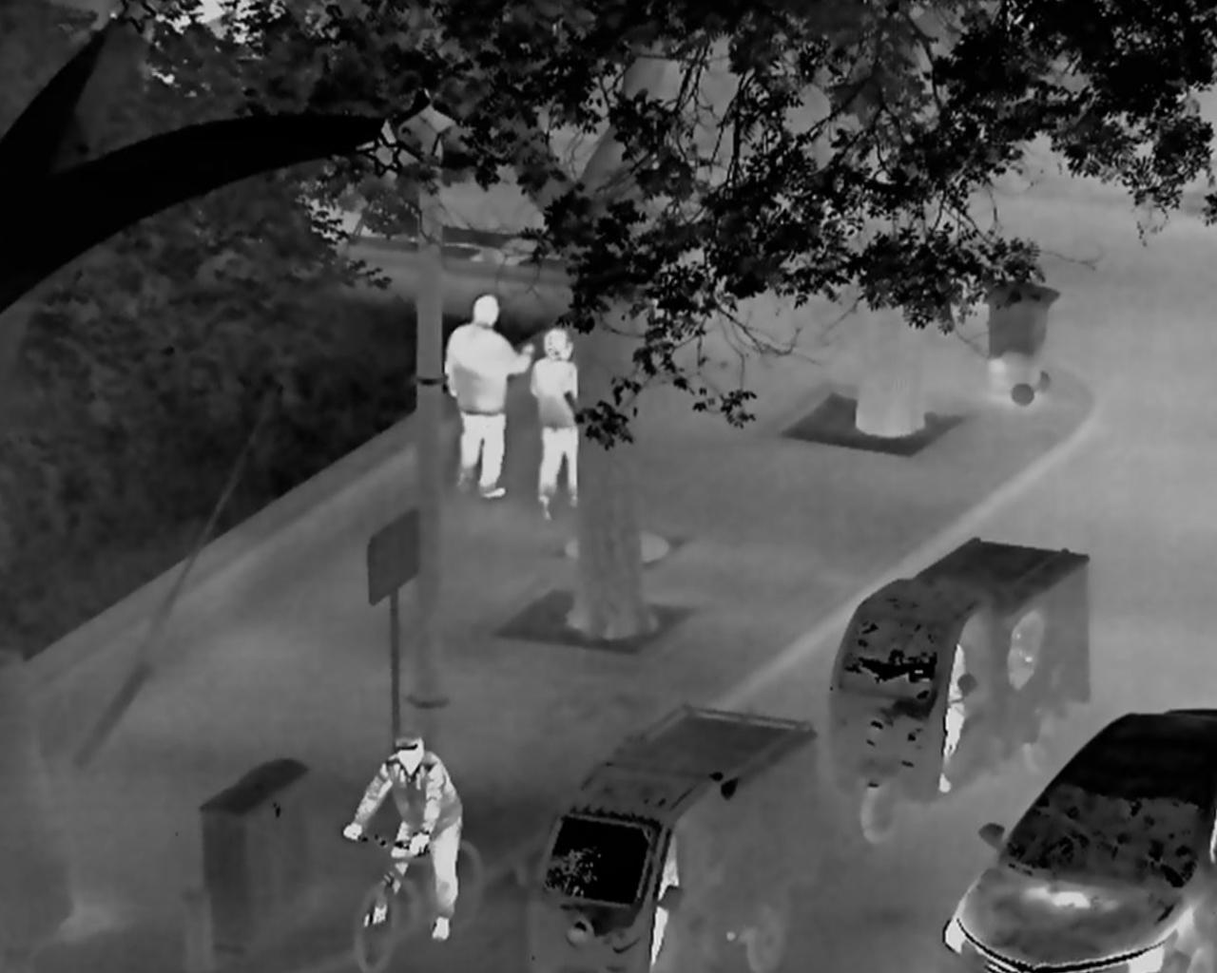person: (342, 730, 463, 943), (443, 293, 535, 498), (528, 327, 579, 521), (937, 642, 967, 793), (648, 831, 679, 967)
